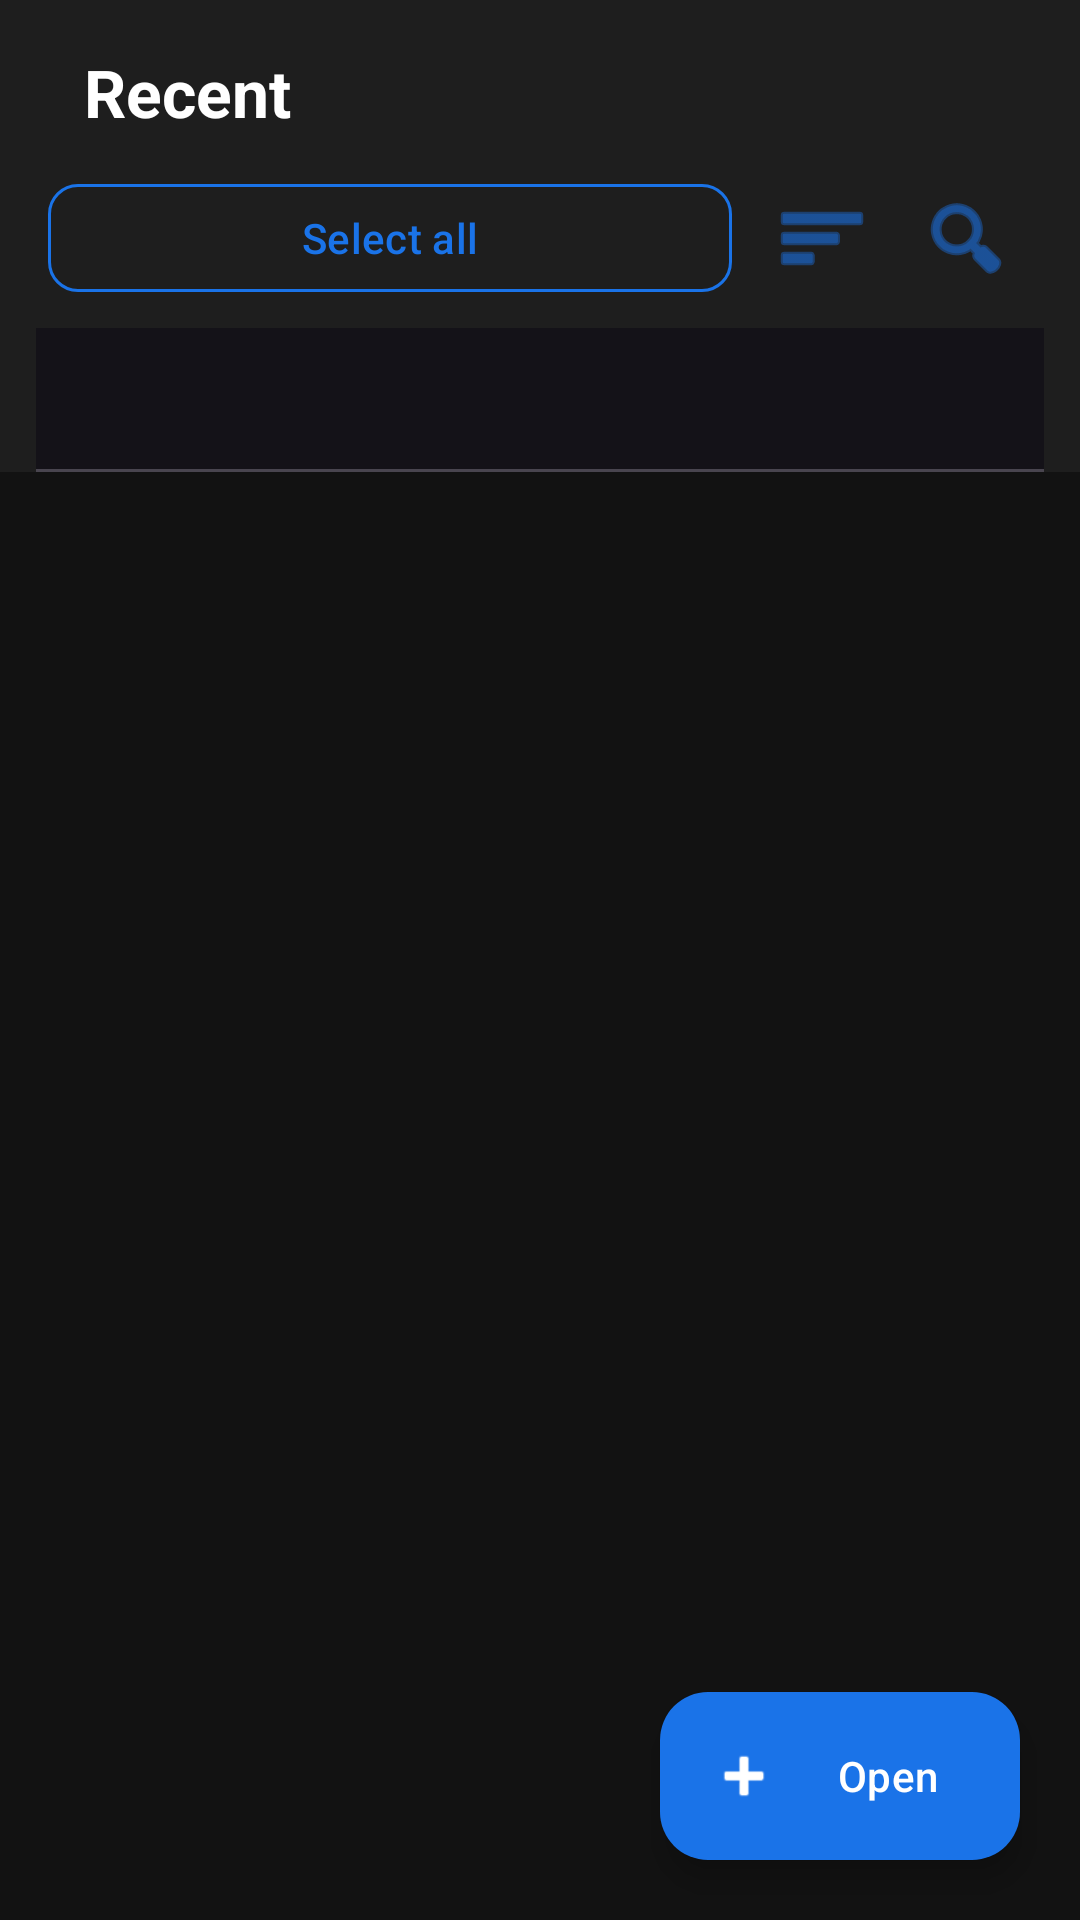

Icon bounding boxes for this 1080px×1920px phone screenshot, format (x1, y1, x2, y2):
Search files: (931, 203, 1001, 274)
Sort files: (781, 212, 863, 265)
